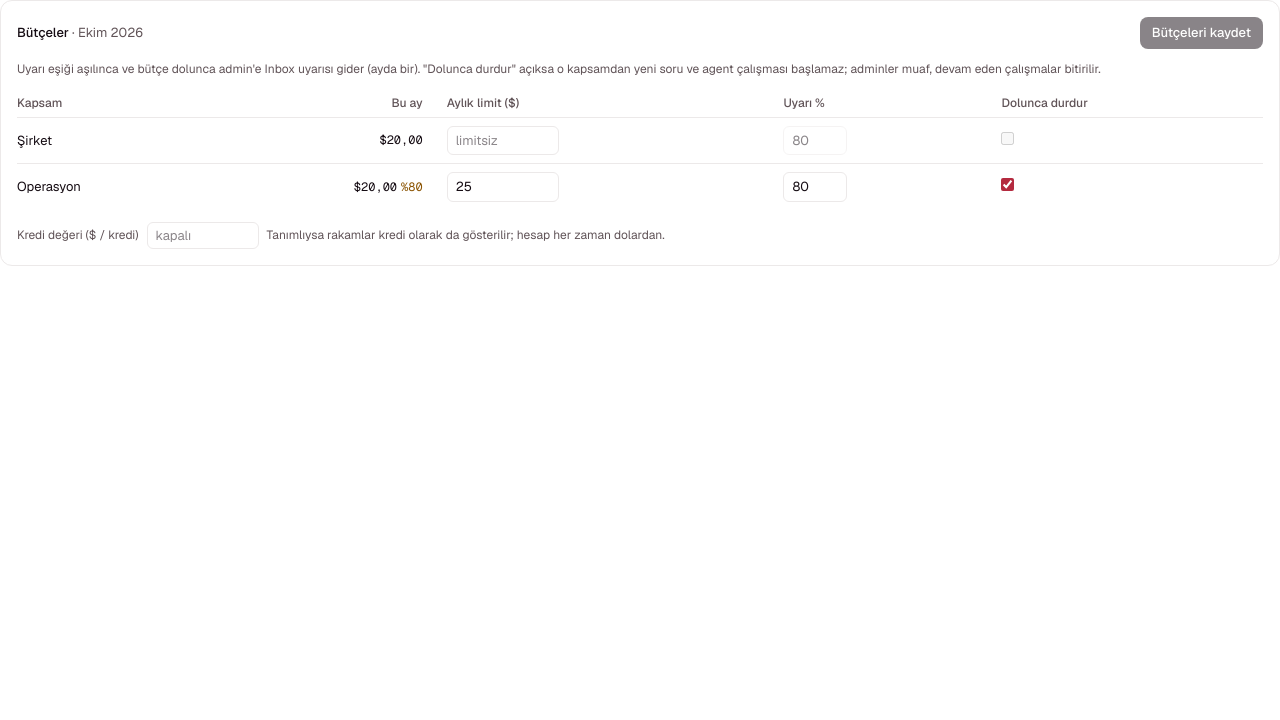
yönetişim kullanım › bütçe değişikliği onaydan sonra kaydedilir
Expected: the text "%80" is shown, [401,179,423,195]
Expected: the button "Bütçeleri kaydet" is disabled, [1140,17,1263,48]
Step 1. Type "500" into the number field named "Şirket aylık limit" → {"x": 503, "y": 140}, box [447,126,559,155]
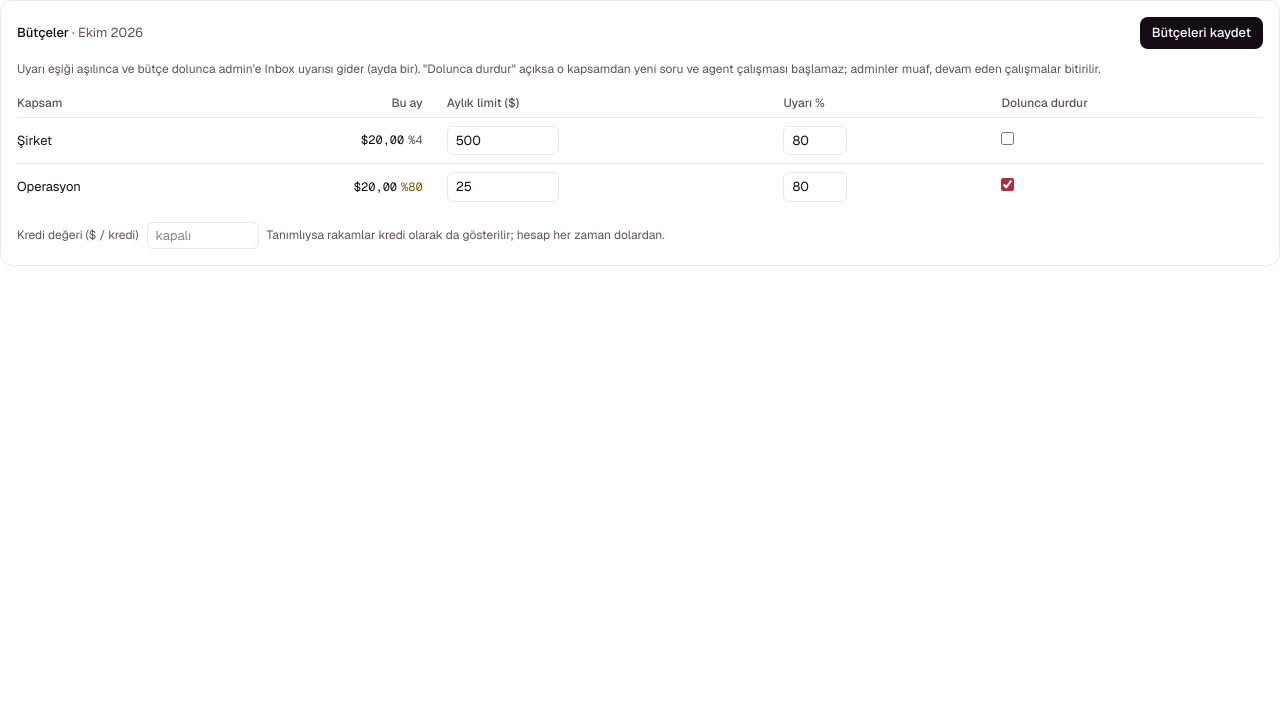
Step 2. Click the checkbox named "Şirket dolunca durdur" → {"x": 1008, "y": 138}, box [1001,132,1014,144]
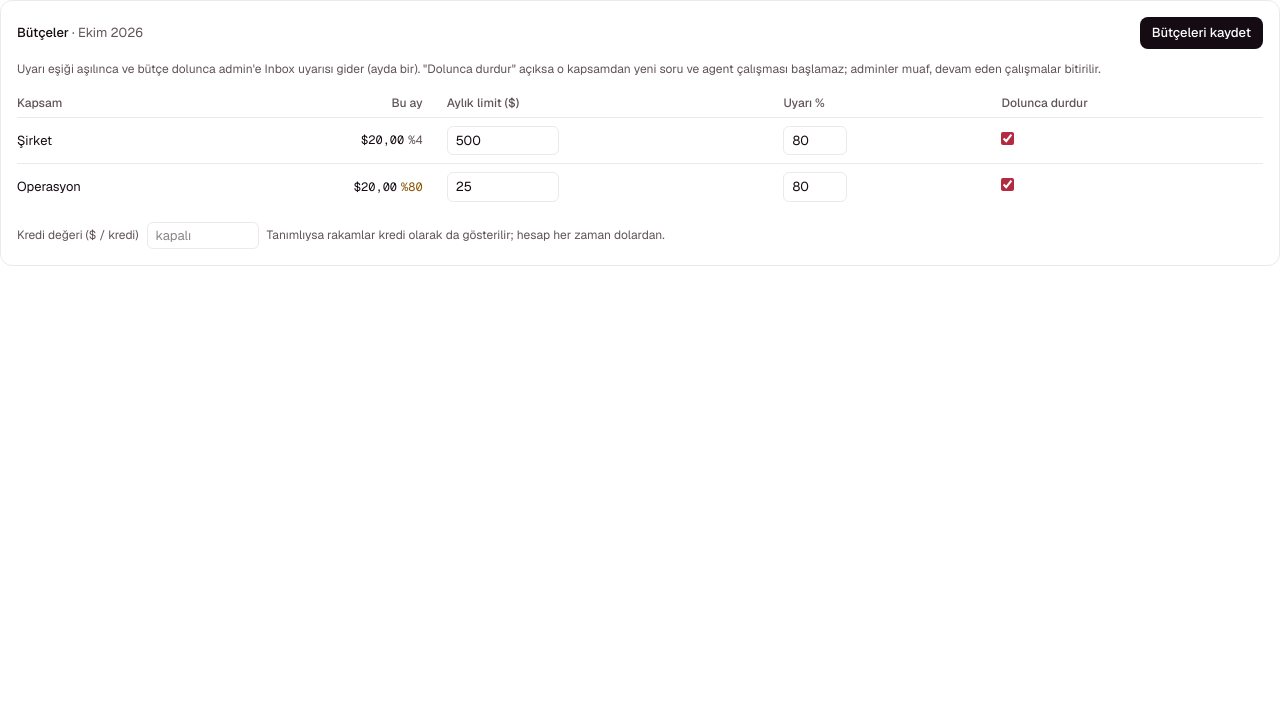
Step 3. Clear the number field named "Operasyon aylık limit" → {"x": 503, "y": 187}, box [447,172,559,202]
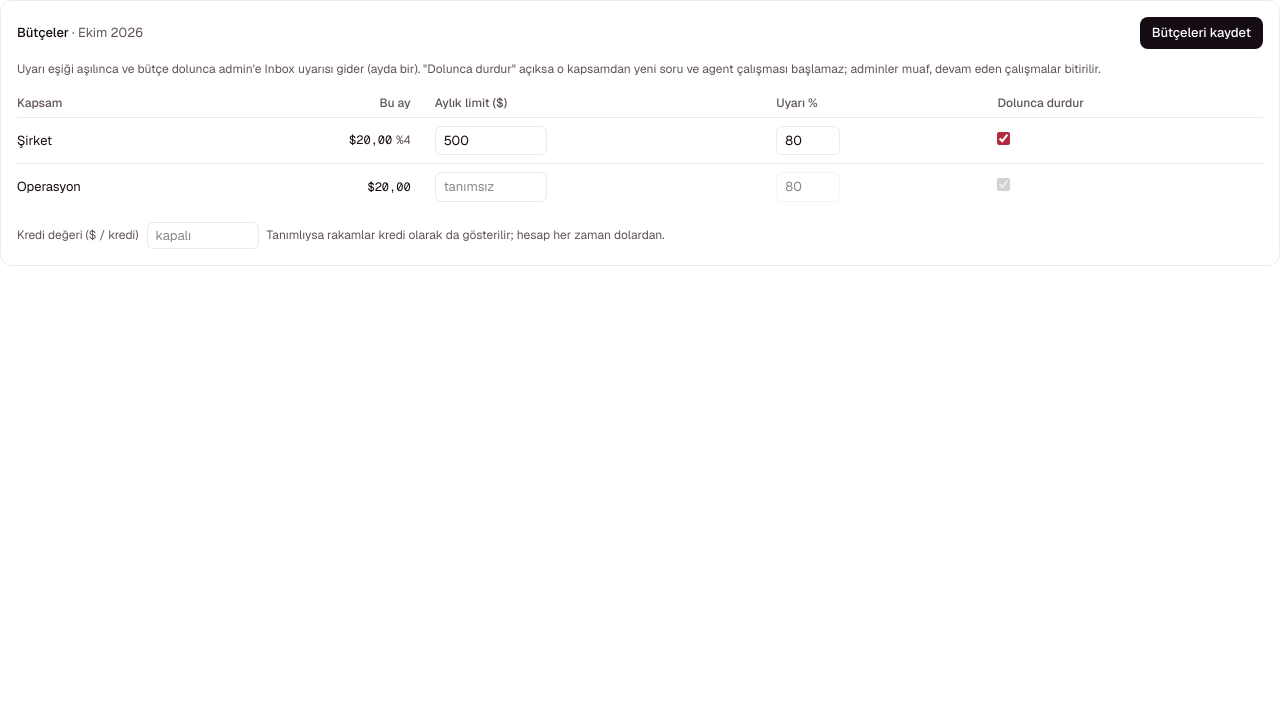
Step 4. Click the button "Bütçeleri kaydet" → {"x": 1201, "y": 33}, box [1140,17,1263,48]
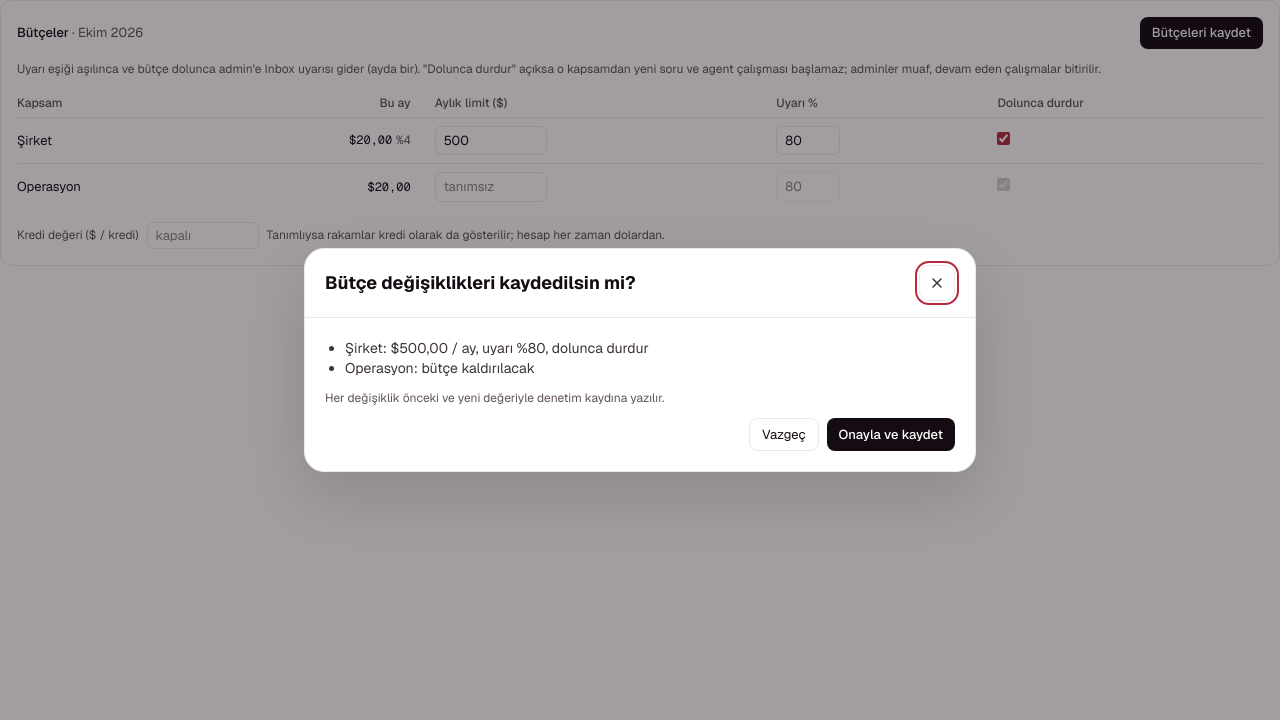
Expected: the dialog "Bütçe değişiklikleri kaydedilsin mi?" shows "Şirket: $500,00 / ay, uyarı %80, dolunca durdur", [304,248,976,472]
Expected: the dialog "Bütçe değişiklikleri kaydedilsin mi?" shows "Operasyon: bütçe kaldırılacak", [304,248,976,472]
Step 5. Click the button "Onayla ve kaydet" → {"x": 891, "y": 435}, box [827,418,955,451]
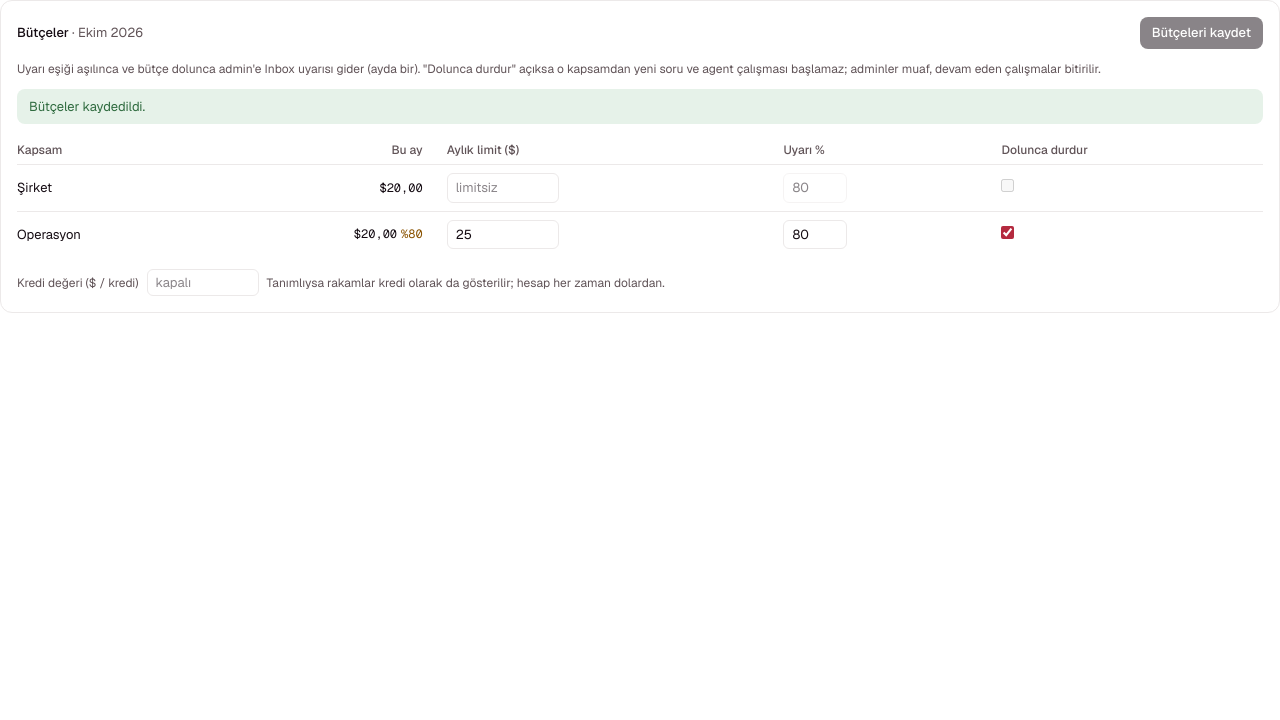
Expected: the text "Bütçeler kaydedildi." is shown, [17,88,1263,124]
